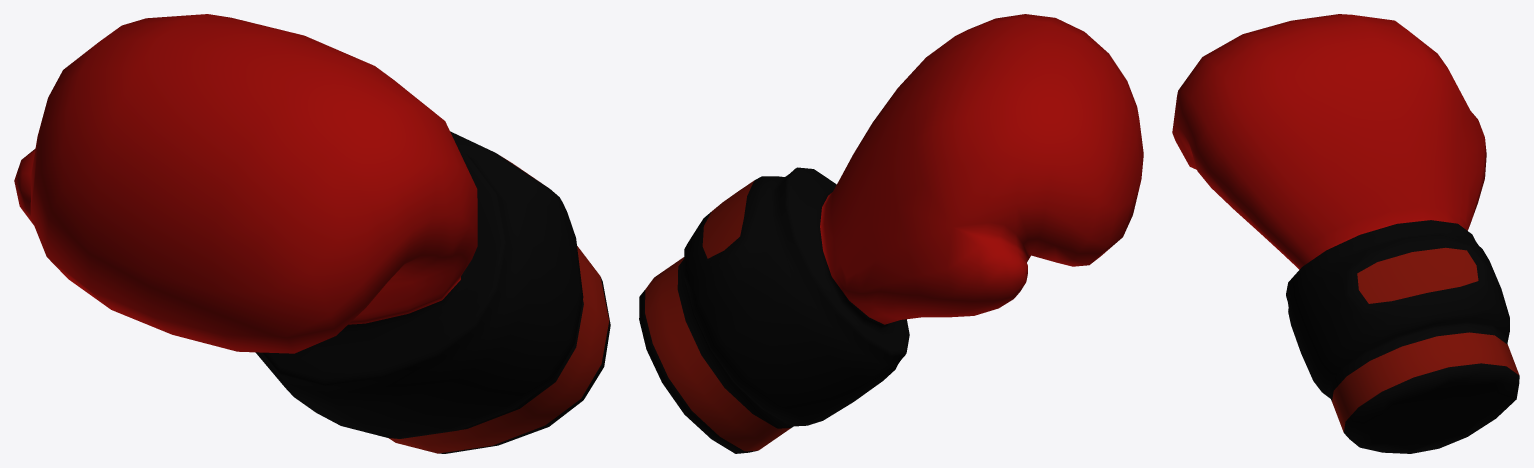
Rendered from boxing.glb.
The picture shows the model from 3 angles, left to right: view 1: azimuth 30°, elevation 25°; view 2: azimuth 150°, elevation 25°; view 3: azimuth 270°, elevation 25°; orthographic projection. The views are drawn at different scales.
Visible parts, largest first — view 1: Boxing Glove.002; view 2: Boxing Glove.002; view 3: Boxing Glove.002.
Boxes of the visible parts, left/top/right/bottom form: Boxing Glove.002: left=14, top=14, right=610, bottom=453; Boxing Glove.002: left=639, top=14, right=1143, bottom=453; Boxing Glove.002: left=1172, top=14, right=1519, bottom=453.
Bounding box in the file's own units: 2.09 × 1.85 × 1.71.
